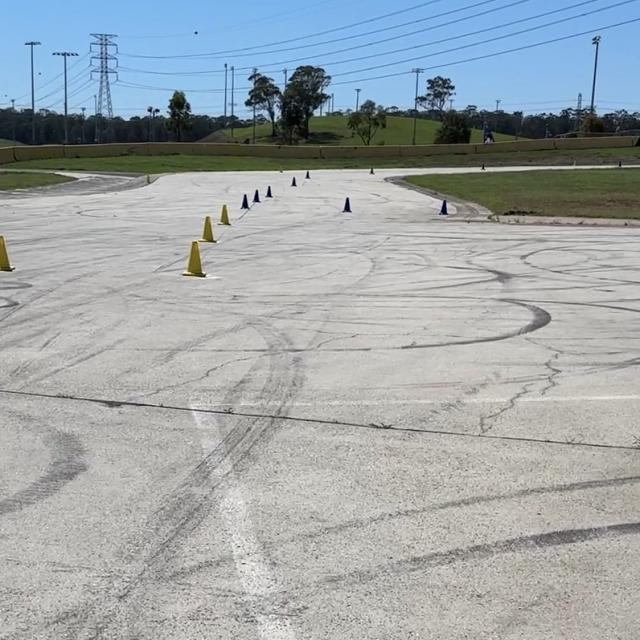blue_cone: (340, 193, 354, 215), (238, 191, 252, 211), (438, 195, 450, 217), (252, 187, 260, 205), (264, 184, 273, 200), (290, 176, 299, 188), (479, 161, 487, 170), (305, 170, 311, 180), (369, 166, 375, 175)
yellow_cone: (182, 239, 208, 279), (1, 232, 14, 276), (198, 215, 216, 243), (214, 202, 232, 228), (144, 171, 152, 185), (277, 161, 285, 175)
